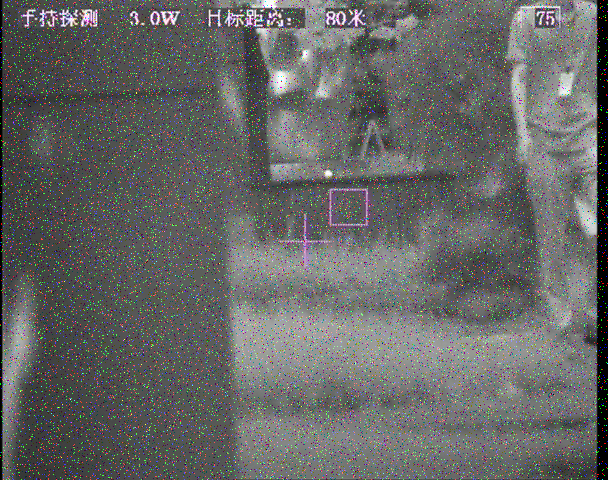my: (323, 168, 333, 179)
